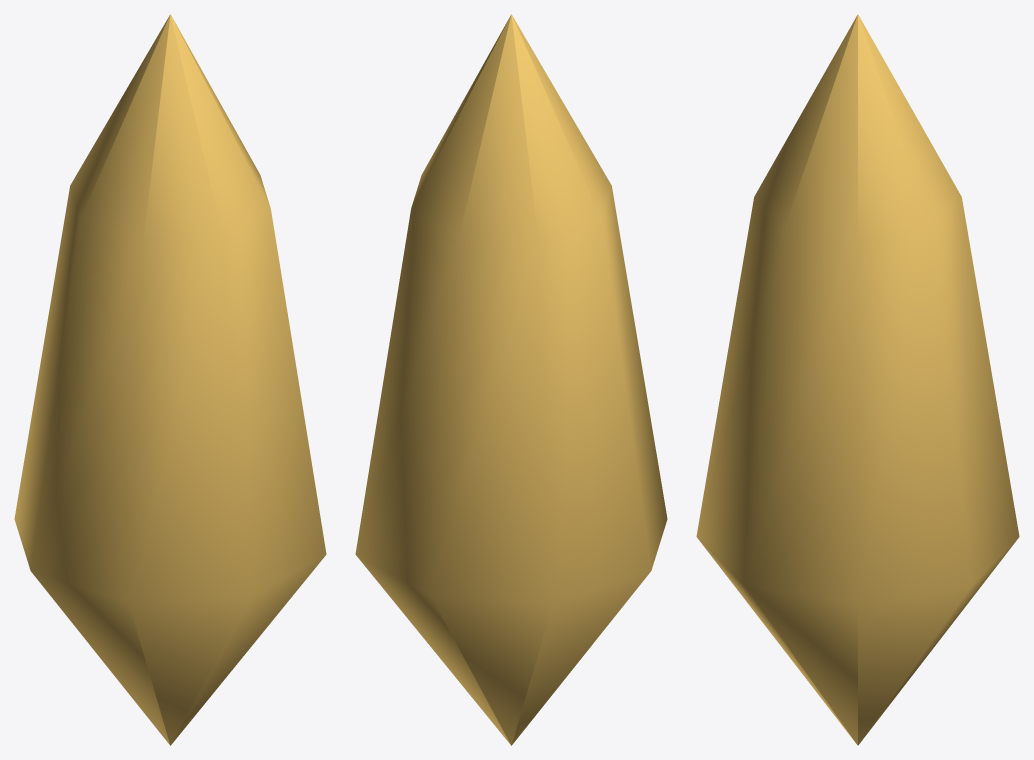
3 views of the same model, side by side, from view 1: azimuth 30°, elevation 25°; view 2: azimuth 150°, elevation 25°; view 3: azimuth 270°, elevation 25° (orthographic).
Size of the model in its own units: 0.56 by 1.4 by 0.56.
